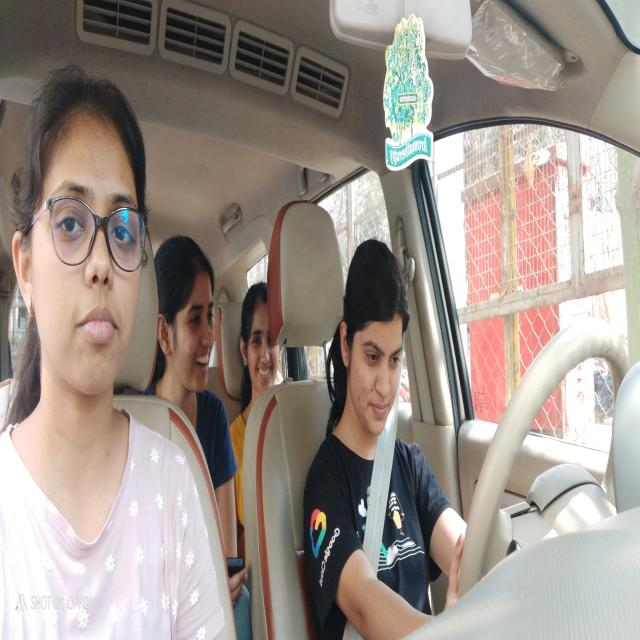person: (6, 59, 148, 469), (332, 231, 412, 450), (156, 232, 220, 406), (238, 265, 288, 413)
